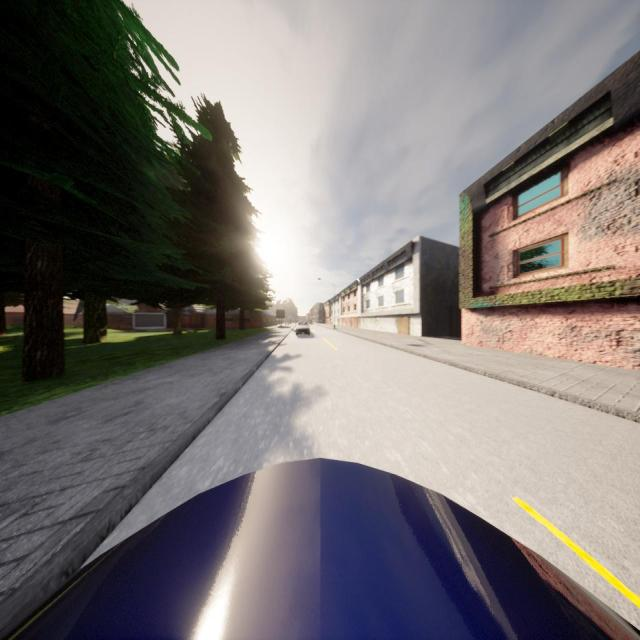Vehicle: (0, 460, 640, 640), (296, 321, 310, 336)
